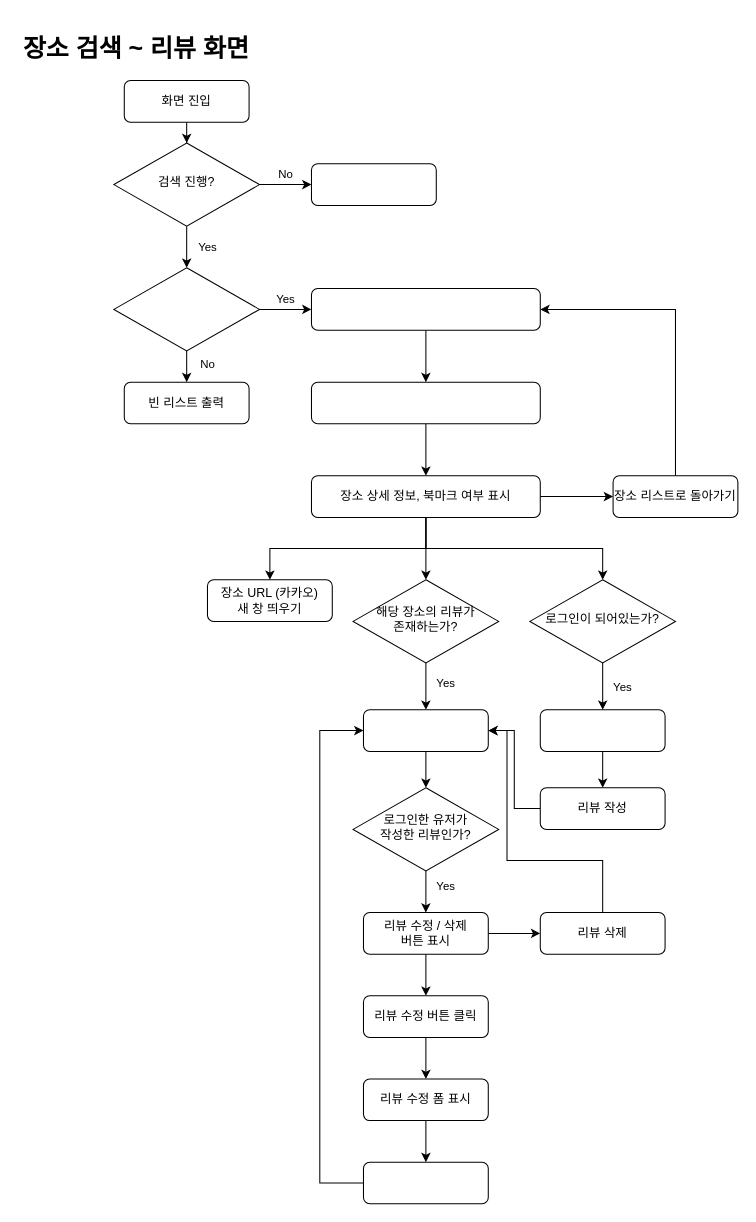
Some shapes in this 756 by 1222 pixel diagram are drawn without their labels. Each missing label, with the centre of its shape:
검색 결과가 있는가?: the point at 186,309
리뷰 리스트 출력: the point at 425,730
리뷰 수정: the point at 425,1182
리뷰 작성 폼 표시: the point at 602,730
장소 리스트 중에서 장소 썸네일 1건 클릭: the point at 425,402
장소 리스트 출력 + 장소 좌표 지도에 표시: the point at 425,309
주소, 카테고리 지정: the point at 373,184
